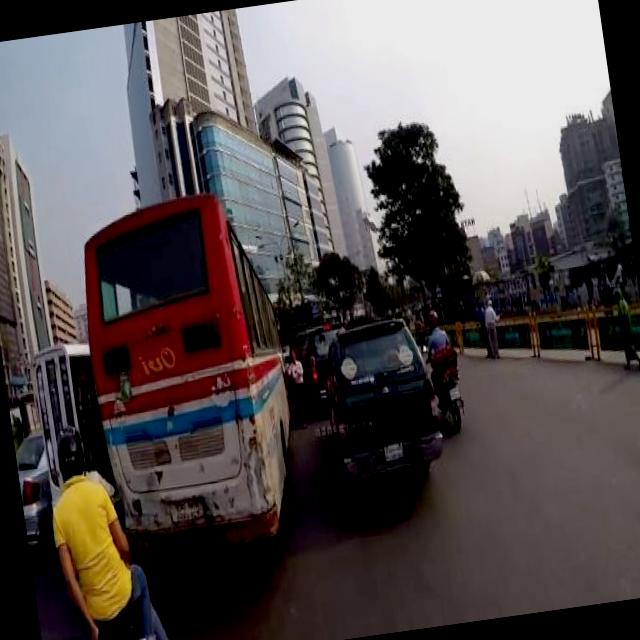bus: (68, 181, 312, 555)
car: (318, 309, 452, 480), (15, 426, 60, 547)
motorcycle: (85, 576, 157, 640), (427, 336, 468, 428)
truck: (286, 319, 354, 400)
